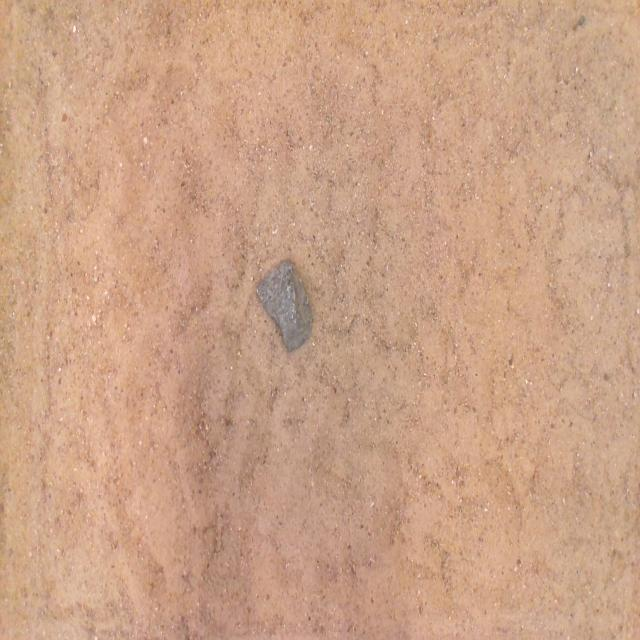rock: (257, 261, 312, 351)
